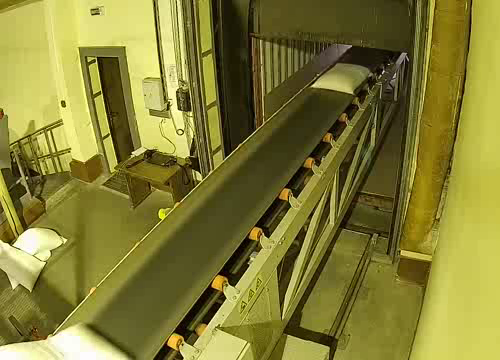bag: (0, 317, 138, 360), (307, 62, 376, 96)
